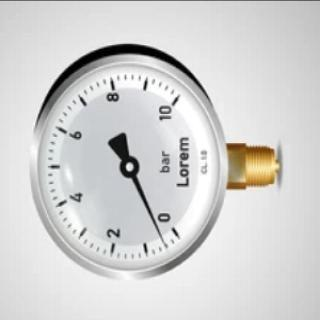gauge: (21, 40, 230, 289), (156, 88, 190, 124), (164, 223, 188, 249), (118, 154, 141, 178), (160, 238, 170, 250)
